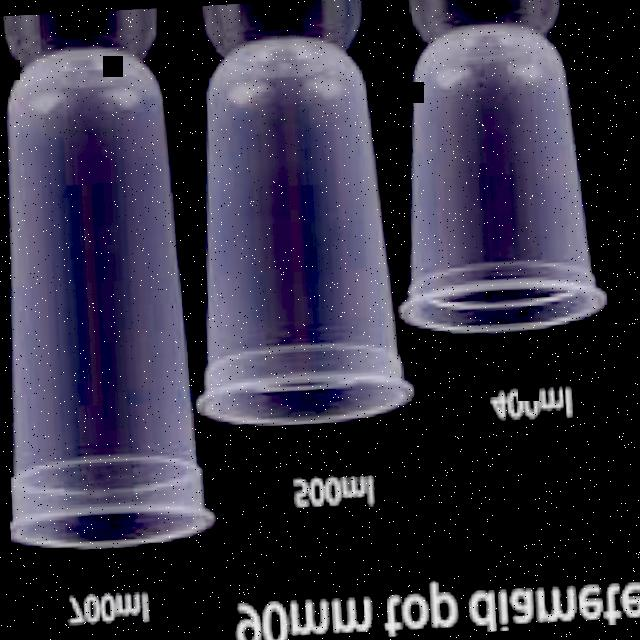plastic_cup: (0, 37, 213, 550), (174, 33, 418, 425), (390, 16, 606, 336)
